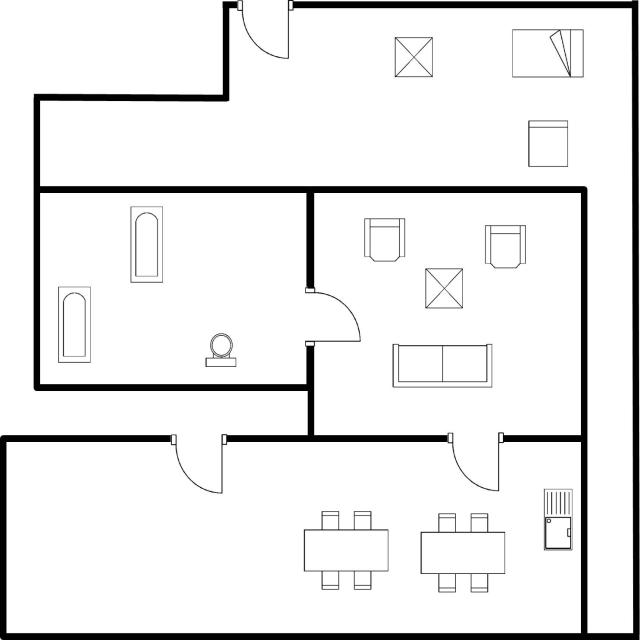armchair: (357, 212, 411, 269), (477, 219, 531, 275)
bed: (507, 24, 588, 84)
coffee_table: (389, 33, 439, 83), (420, 264, 467, 315)
dining_table: (415, 508, 511, 596), (298, 507, 392, 594)
large_sink: (199, 330, 244, 372)
large_sofa: (385, 338, 496, 392)
sink: (538, 482, 576, 556)
small_sofa: (523, 112, 573, 172)
tub: (127, 201, 175, 288), (52, 281, 95, 367)
